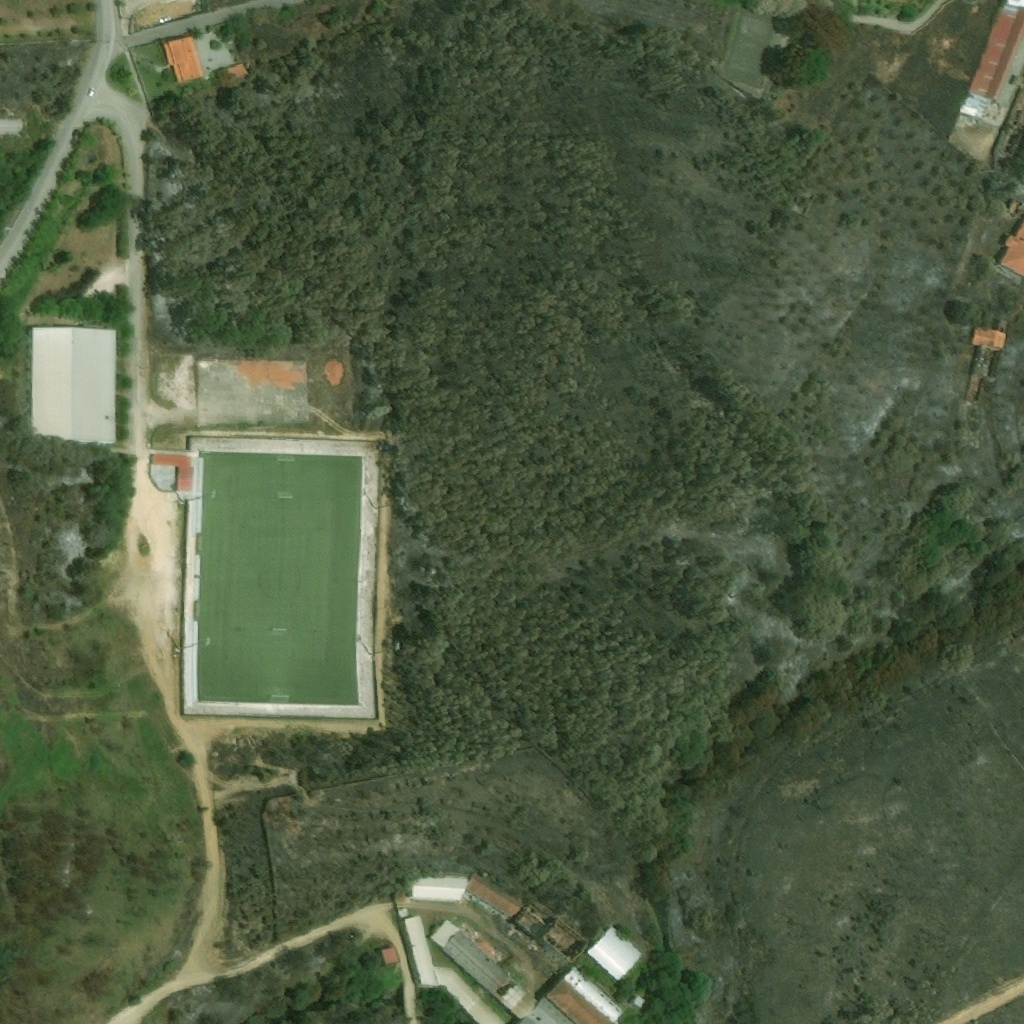0 no-damage: (429, 918, 573, 1023), (31, 327, 120, 446), (958, 0, 1023, 127), (545, 966, 629, 1023), (397, 909, 442, 993), (587, 924, 647, 983), (164, 36, 206, 85), (995, 222, 1023, 286), (408, 874, 465, 903), (225, 62, 251, 81), (383, 949, 400, 966), (631, 994, 648, 1010)
2 major-damage: (466, 875, 547, 940), (964, 327, 1010, 405)
3 destroyed: (990, 87, 1023, 162)
